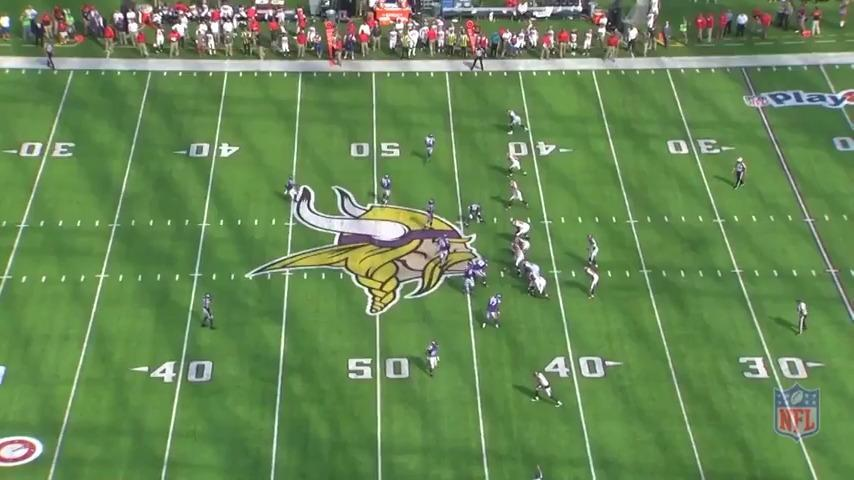defense: (480, 293, 503, 332), (198, 290, 218, 333), (460, 200, 484, 231), (430, 230, 449, 268), (424, 340, 442, 380), (461, 258, 476, 298), (421, 197, 438, 232), (471, 256, 488, 290), (283, 175, 300, 208), (422, 131, 438, 165), (379, 173, 395, 207)
oline: (510, 237, 532, 275), (525, 270, 551, 301), (520, 258, 543, 290), (512, 215, 533, 242), (514, 235, 531, 258)
qb: (584, 233, 600, 275)
ref: (795, 298, 811, 339), (734, 156, 750, 194), (43, 38, 60, 72), (469, 45, 487, 73)
skill: (530, 371, 563, 409), (585, 262, 603, 303), (506, 179, 529, 211), (506, 108, 530, 138), (506, 148, 526, 180)
